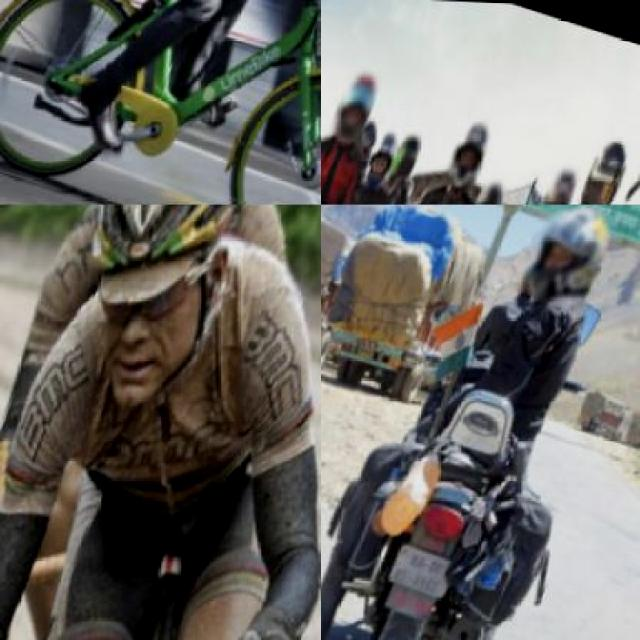With Helmet: (58, 204, 284, 356), (514, 205, 623, 312), (328, 59, 388, 142), (574, 126, 638, 203), (444, 111, 502, 189), (362, 123, 409, 195), (386, 120, 432, 188), (537, 151, 591, 203), (471, 168, 517, 203)
